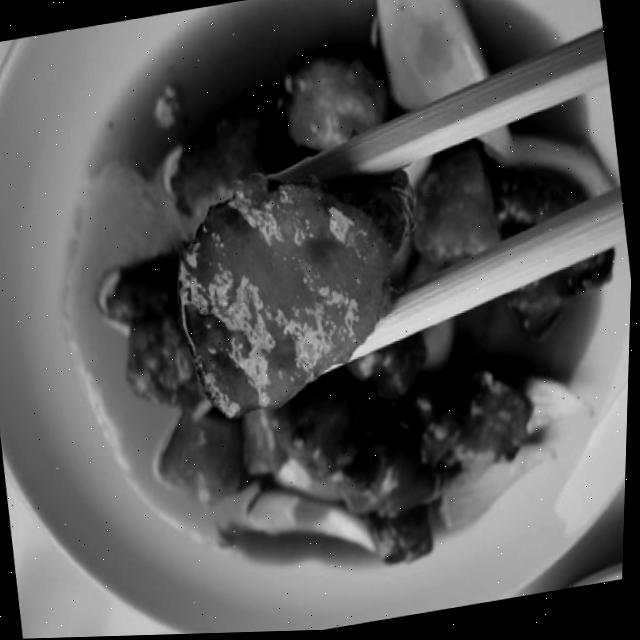猪肉菜式: (19, 0, 640, 612)
